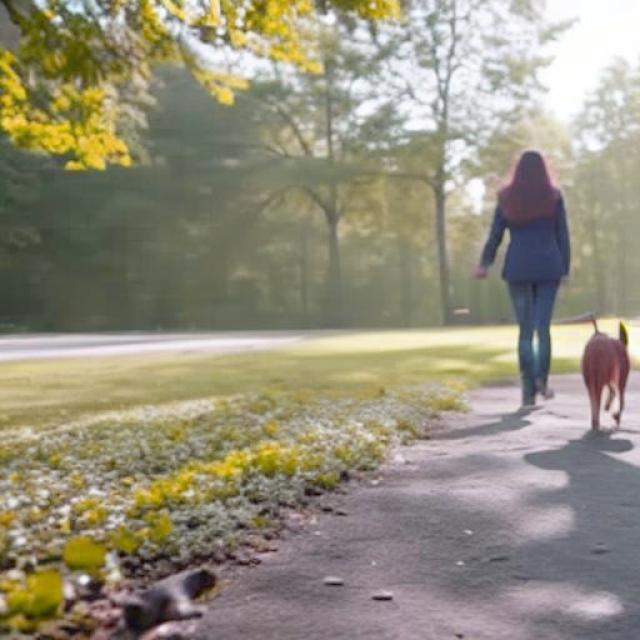Unleashed_Dog: (510, 280, 630, 431)
